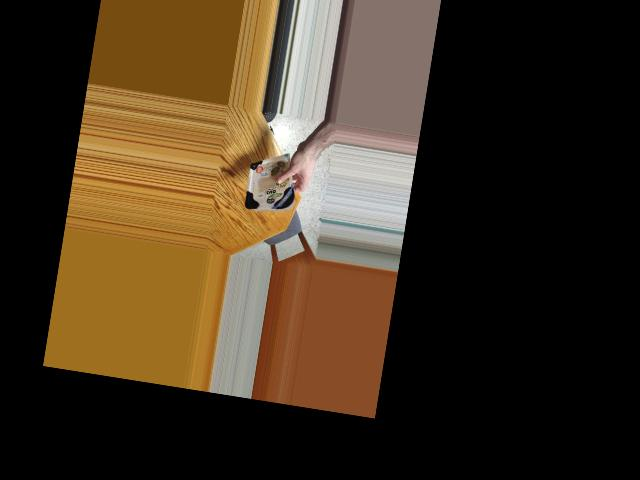cheese: (248, 153, 293, 216)
